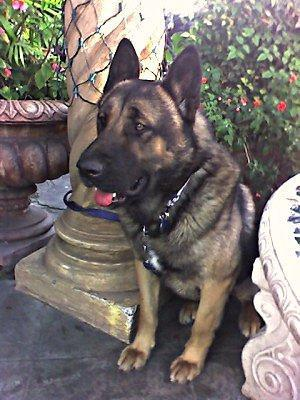German_shepherd: (76, 38, 265, 385)
